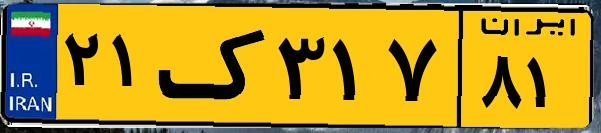1: (330, 28, 385, 110), (525, 38, 570, 115), (110, 28, 158, 98)
2: (57, 26, 110, 100)
3: (270, 28, 330, 110)
7: (385, 28, 445, 110)
8: (475, 38, 525, 113)
ک: (158, 12, 270, 120)
